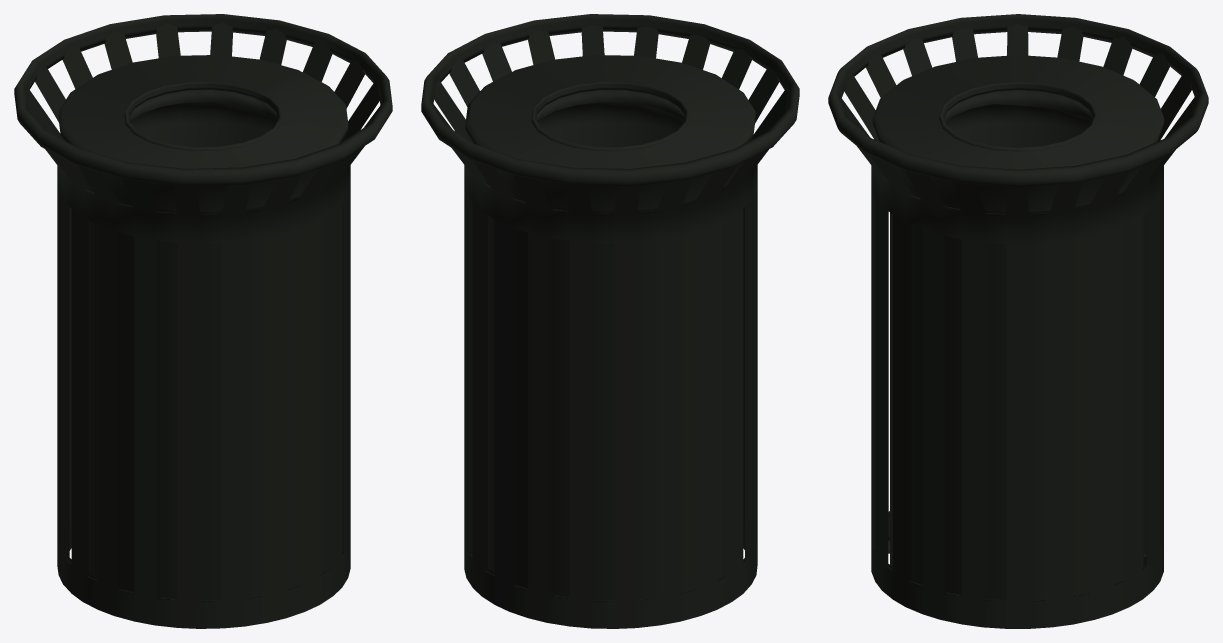
Rendered from trashcan3.glb.
3 renders of one model, left to right at view 1: azimuth 30°, elevation 25°; view 2: azimuth 150°, elevation 25°; view 3: azimuth 270°, elevation 25°, orthographic.
Parts seen in each view (by area): view 1: TrashCanSmall_TrashCanSmall_shader_0; view 2: TrashCanSmall_TrashCanSmall_shader_0; view 3: TrashCanSmall_TrashCanSmall_shader_0.
Part boxes in pixels (x1,y1,x2,y2): TrashCanSmall_TrashCanSmall_shader_0: (14,14,392,628); TrashCanSmall_TrashCanSmall_shader_0: (421,14,799,628); TrashCanSmall_TrashCanSmall_shader_0: (828,14,1208,628).
Bounding box in the file's own units: 0.6304 × 0.8688 × 0.6304.
Materials: 1 (1 with a texture image).
